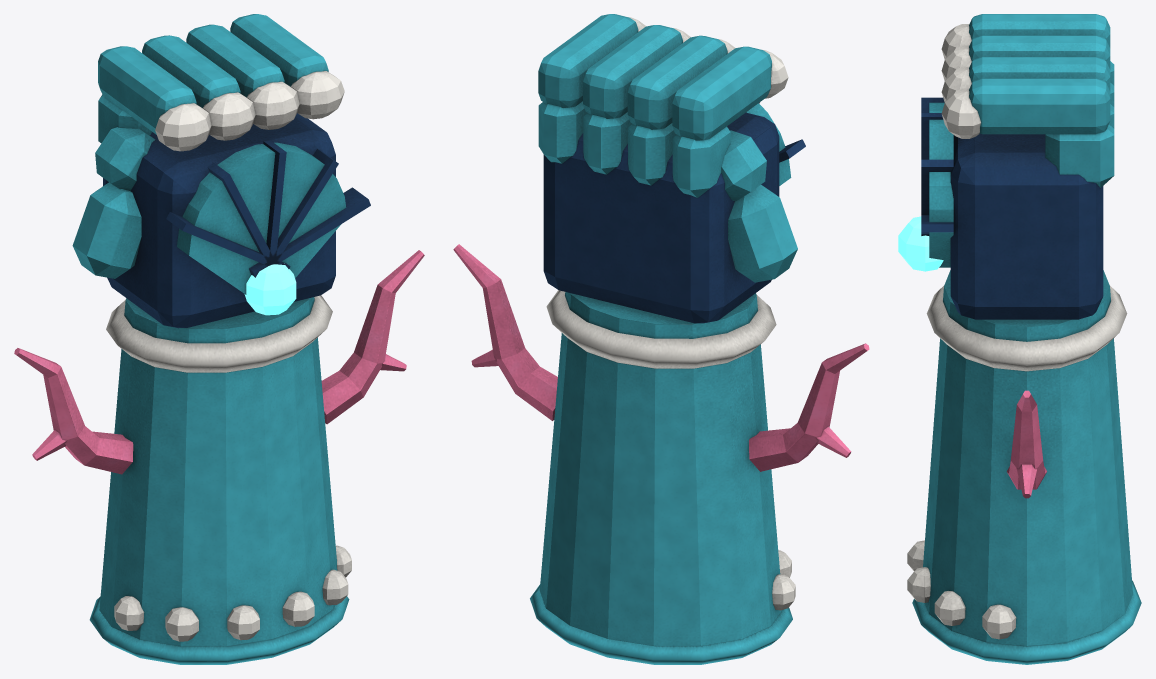
File: 10_abyss_gauntlet.fbx
3 views of the same model, side by side, from view 1: azimuth 30°, elevation 25°; view 2: azimuth 150°, elevation 25°; view 3: azimuth 270°, elevation 25° (orthographic).
Visible parts, largest first — view 1: Weapon; view 2: Weapon; view 3: Weapon.
Boxes of the visible parts, <box> form: Weapon: <box>14,14,424,664</box>; Weapon: <box>453,14,869,664</box>; Weapon: <box>898,14,1141,664</box>.
Size of the model in its own units: 38.35 by 50.4 by 19.79.
2 materials, 1 textured.
